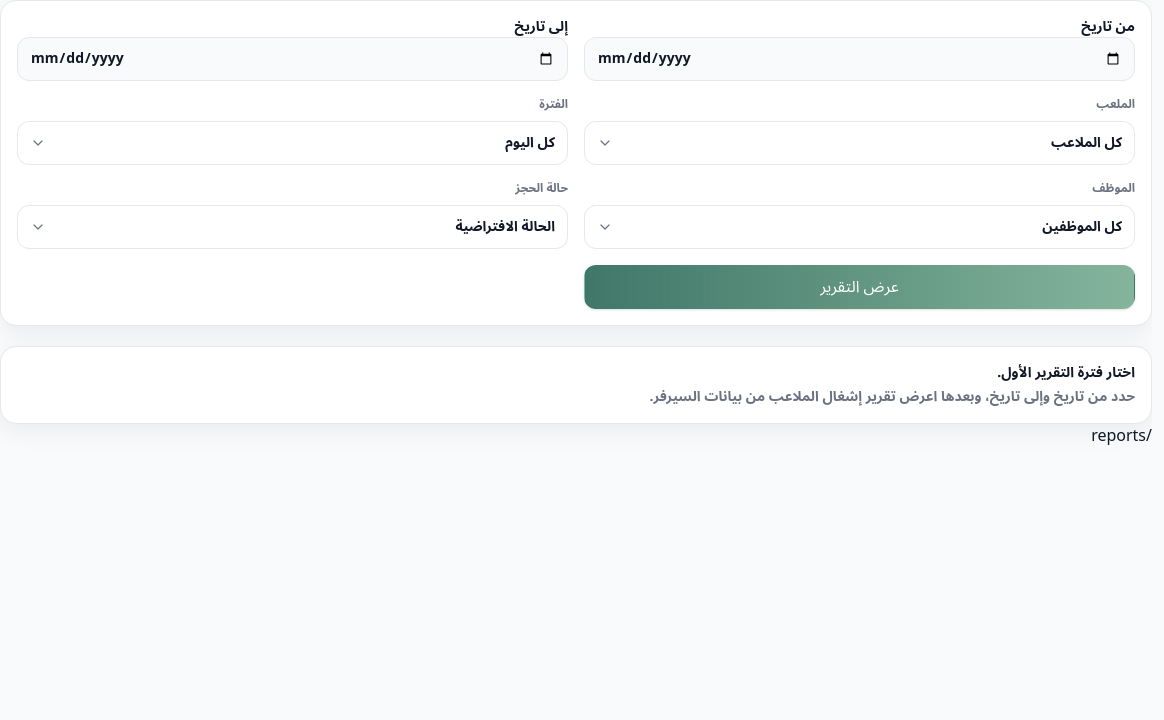
it: ReportsPage › uses only supported court usage status filter options
This screenshot has width=1164, height=720.
Click the button named "حالة الحجز" at [505, 226], box [17, 205, 568, 249]
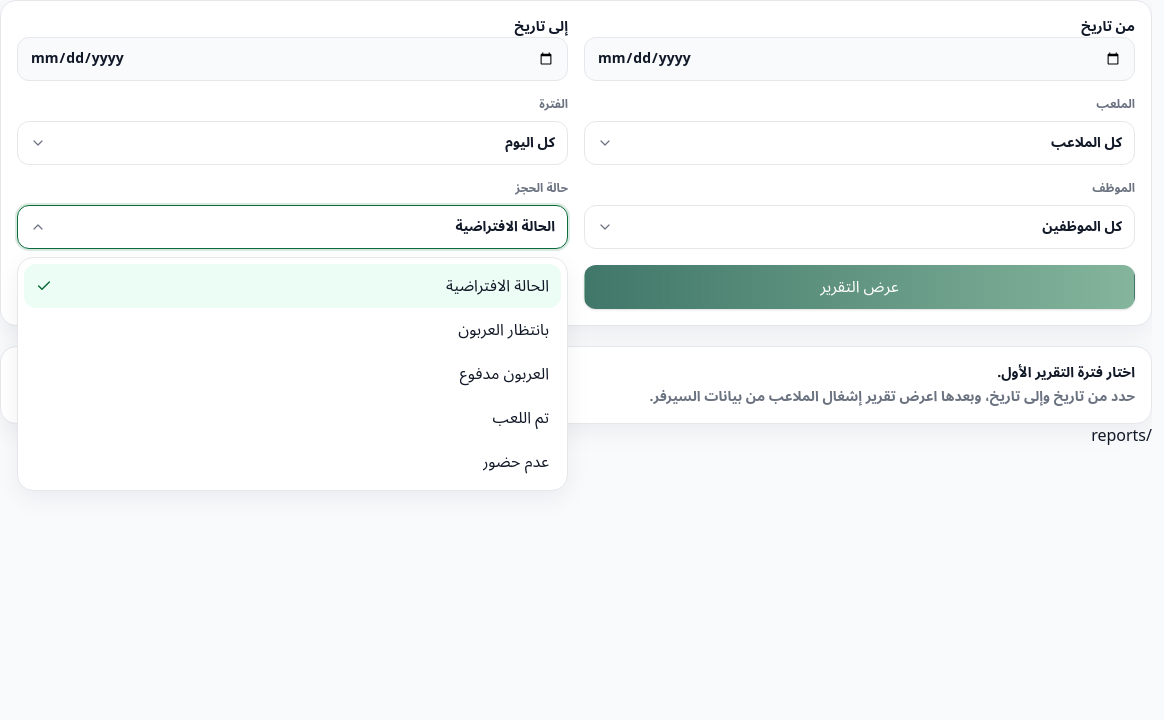
Now the option "الحالة الافتراضية" is empty, box [24, 264, 561, 308]
Now the option "بانتظار العربون" holds "HOLD", box [24, 308, 561, 352]
Now the option "العربون مدفوع" holds "CONFIRMED", box [24, 352, 561, 396]
